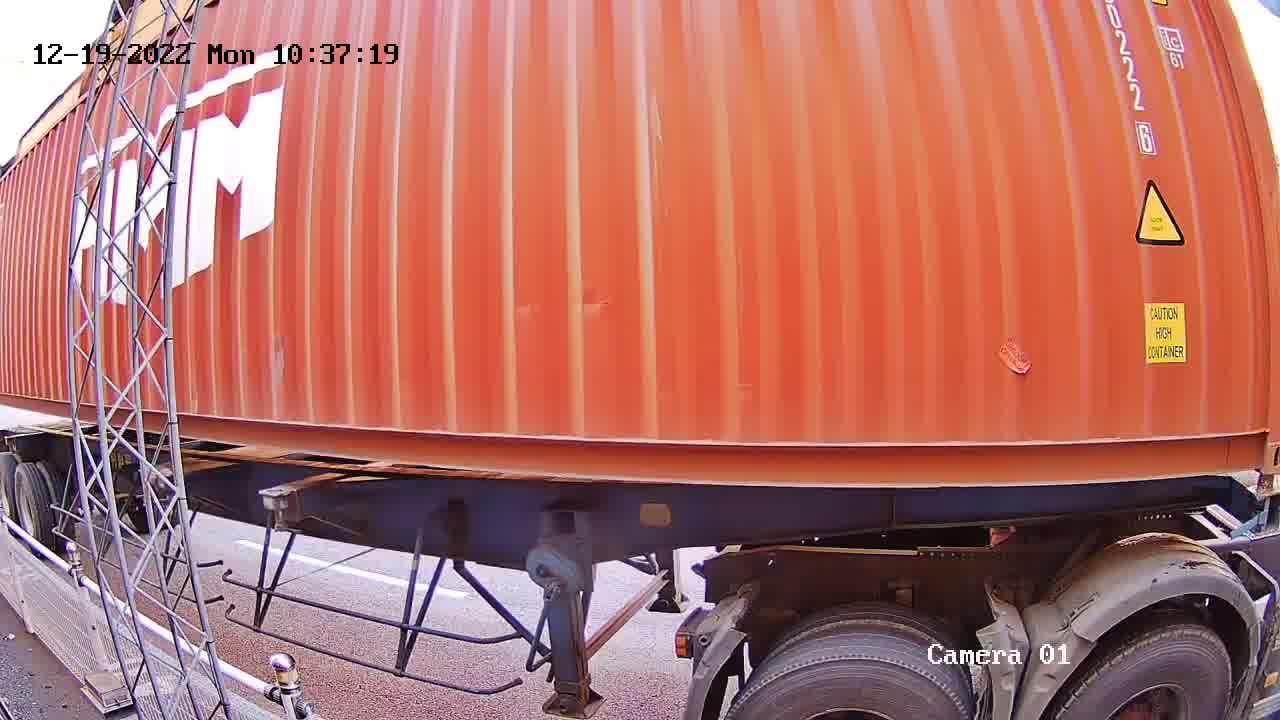Cone: (1238, 473, 1279, 526)
Hole_R: (1221, 410, 1279, 475)
Tire: (1057, 634, 1231, 716), (736, 660, 969, 718)
